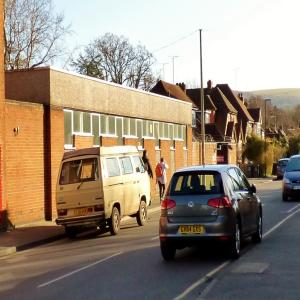Vehicle-registration-plate: (180, 223, 204, 234), (74, 209, 88, 216), (294, 187, 300, 191)
